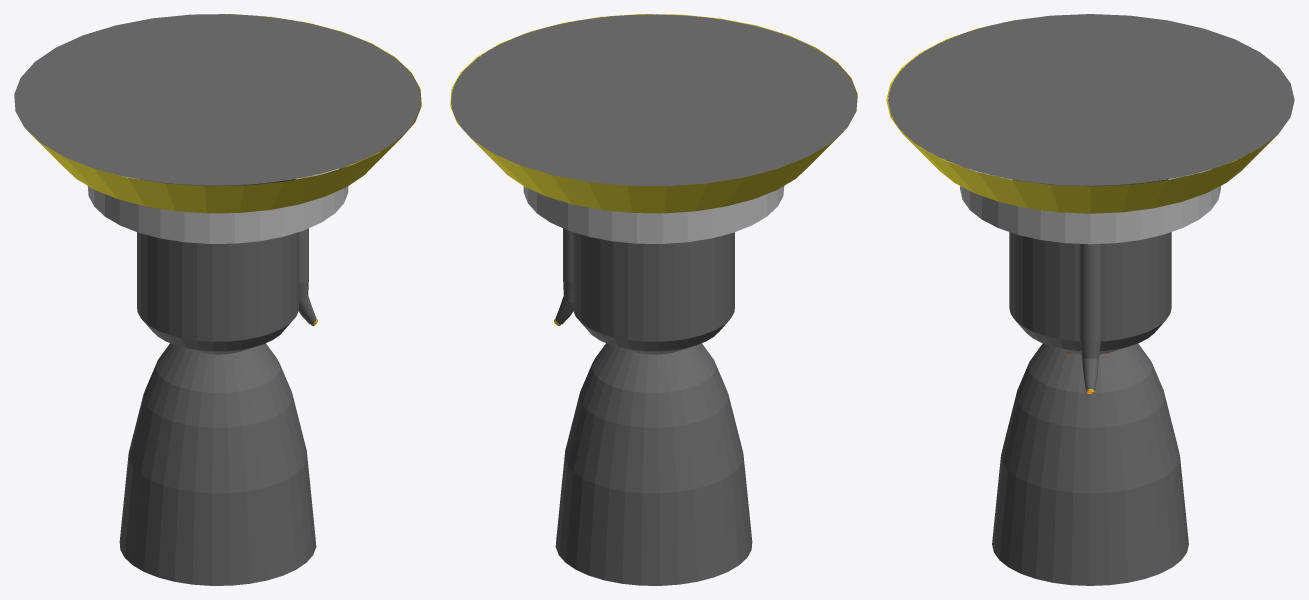
Rendered from 125liquidbig.fbx.
3 renders of one model, left to right at view 1: azimuth 30°, elevation 25°; view 2: azimuth 150°, elevation 25°; view 3: azimuth 270°, elevation 25°, orthographic.
Visible parts, largest first — view 1: Cylinder; view 2: Cylinder; view 3: Cylinder.
Boxes of the visible parts, <box> form: Cylinder: <box>14,14,421,585</box>; Cylinder: <box>450,14,857,585</box>; Cylinder: <box>886,14,1294,585</box>.
Size of the model in its own units: 125 by 150 by 125.
